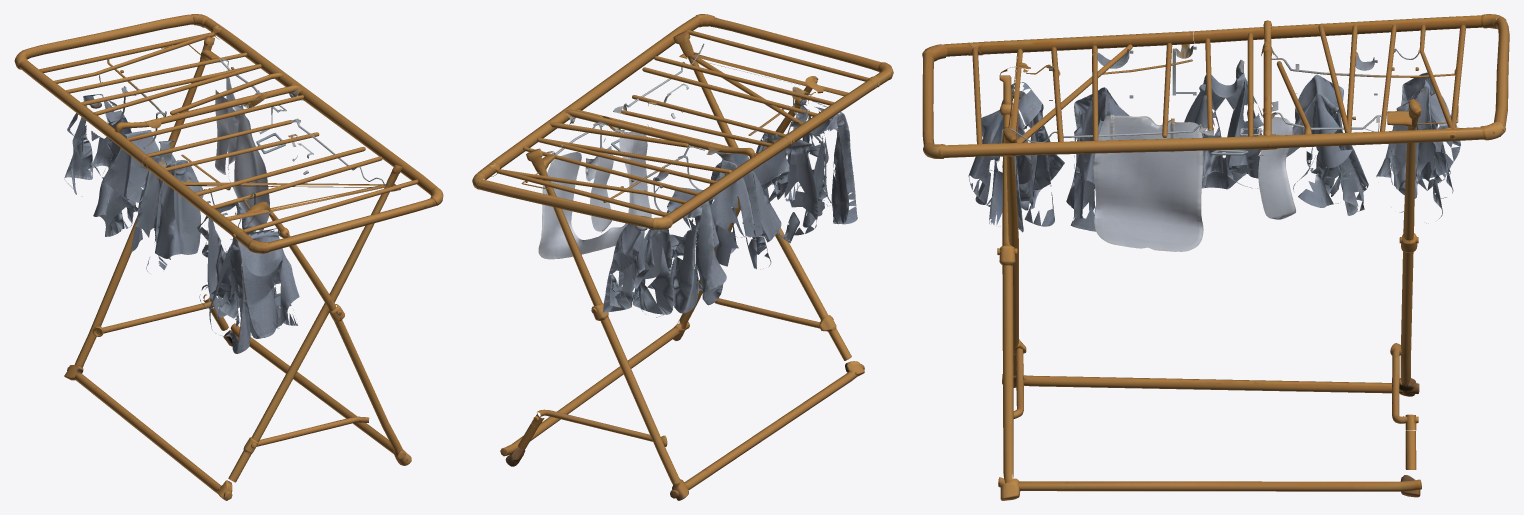
Rendered from toonstudio_laundry_rack.glb.
3 views of the same model, side by side, from view 1: azimuth 30°, elevation 25°; view 2: azimuth 150°, elevation 25°; view 3: azimuth 270°, elevation 25° (orthographic). The views are drawn at different scales.
Visible parts, largest first — view 1: e2249ba4_d21b_4ad8_9fcb_bd3269f78f99; view 2: e2249ba4_d21b_4ad8_9fcb_bd3269f78f99; view 3: e2249ba4_d21b_4ad8_9fcb_bd3269f78f99.
Boxes of the visible parts, x1,y1,x2,y2 form: e2249ba4_d21b_4ad8_9fcb_bd3269f78f99: [14, 14, 443, 500]; e2249ba4_d21b_4ad8_9fcb_bd3269f78f99: [472, 14, 893, 500]; e2249ba4_d21b_4ad8_9fcb_bd3269f78f99: [922, 14, 1509, 500].
Bounding box in the file's own units: 0.7277 × 1.08 × 1.5.
1 material, 1 textured.
